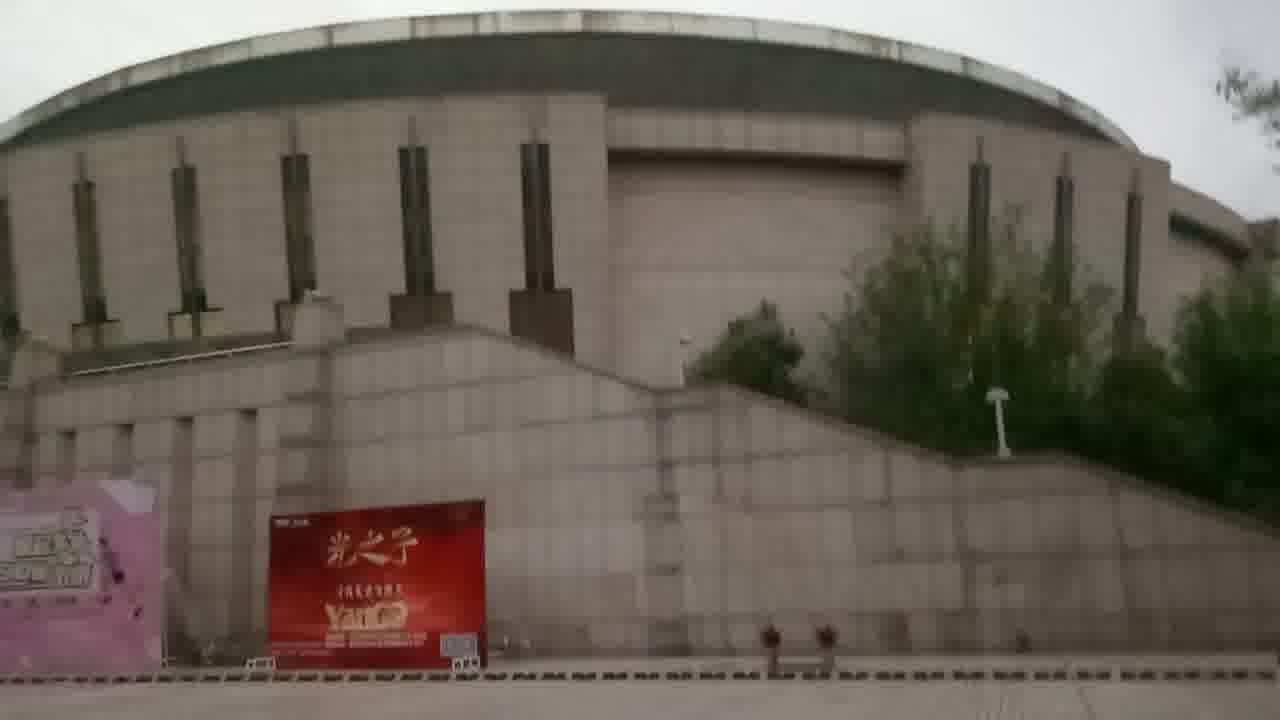zhongtiww: (6, 16, 1280, 688)
